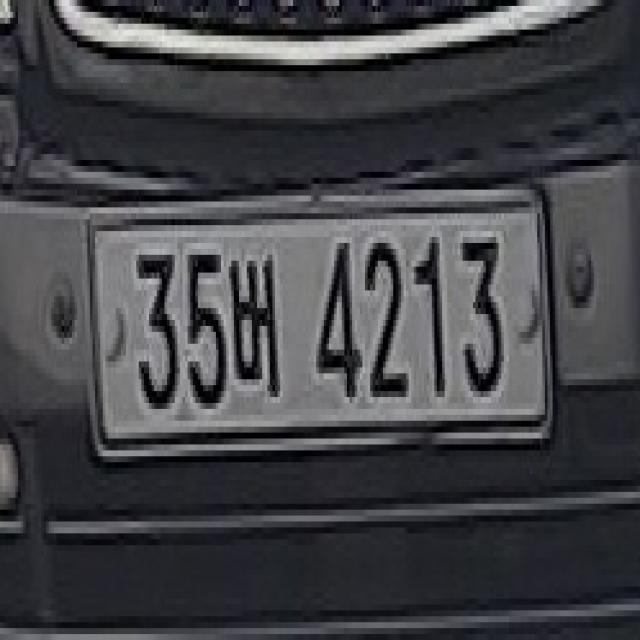1: (414, 225, 447, 403)
2: (362, 225, 412, 409)
3: (458, 225, 507, 403), (134, 243, 180, 415)
4: (311, 237, 365, 403)
5: (180, 243, 229, 409)
beo: (226, 243, 280, 403)
license_plate: (88, 190, 552, 450)
